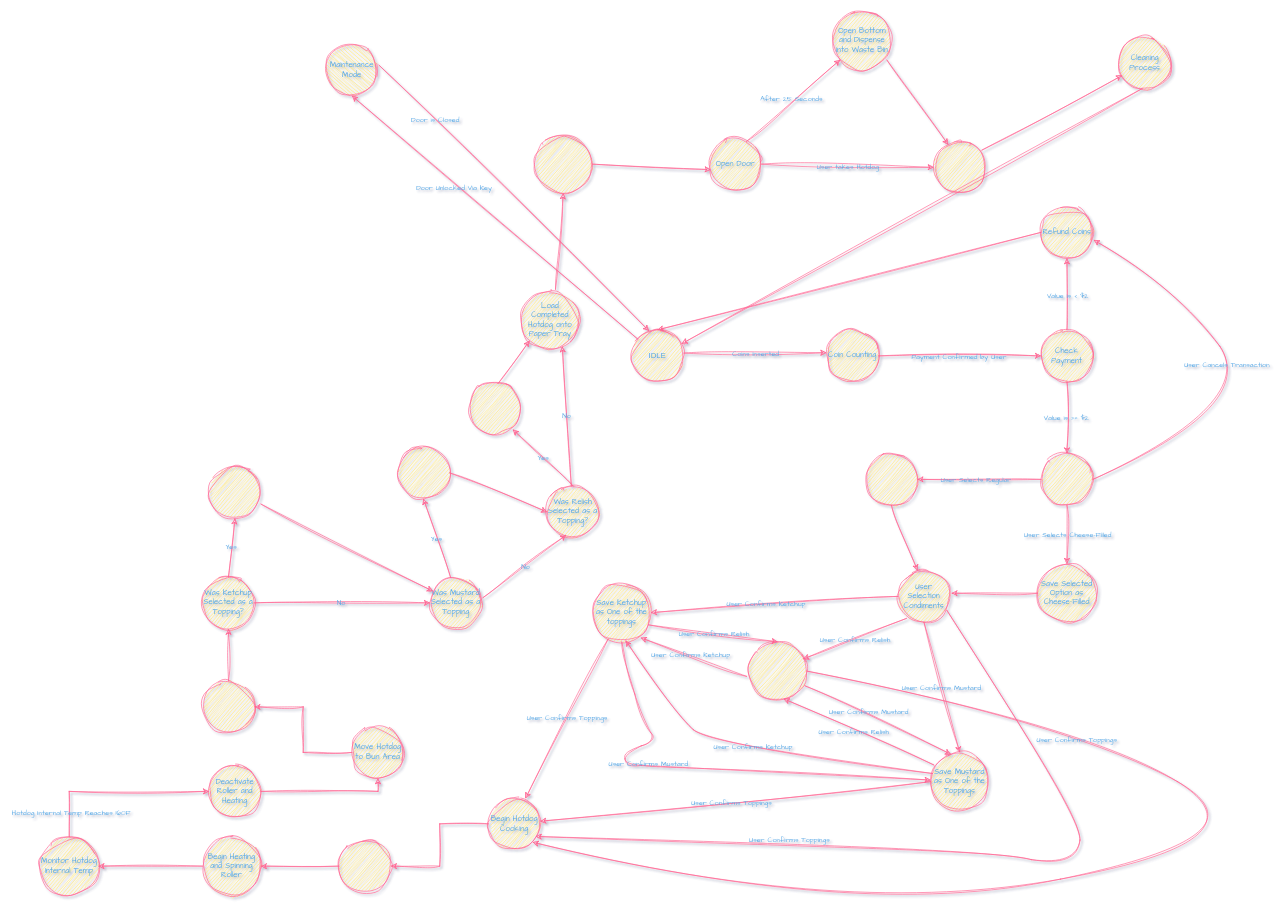
Image size: 1284x911. Some labels were removed from this diagram. Here are the shapes that lost their labels. From the top down, the centre of each, then its label:
At point 562,163: "Move Tray to Collection Area".
At point 959,167: "Close Door".
At point 494,407: "Dispense Relish".
At point 234,492: "Dispense Ketchup".
At point 423,472: "Dispense Mustard".
At point 891,479: "Save Selected Option as Regular".
At point 1066,479: "User Selection".
At point 777,670: "Save Relish as One of the Toppings".
At point 228,706: "Place Hotdog on Bun".
At point 364,865: "Place Hotdog onto Roller".
